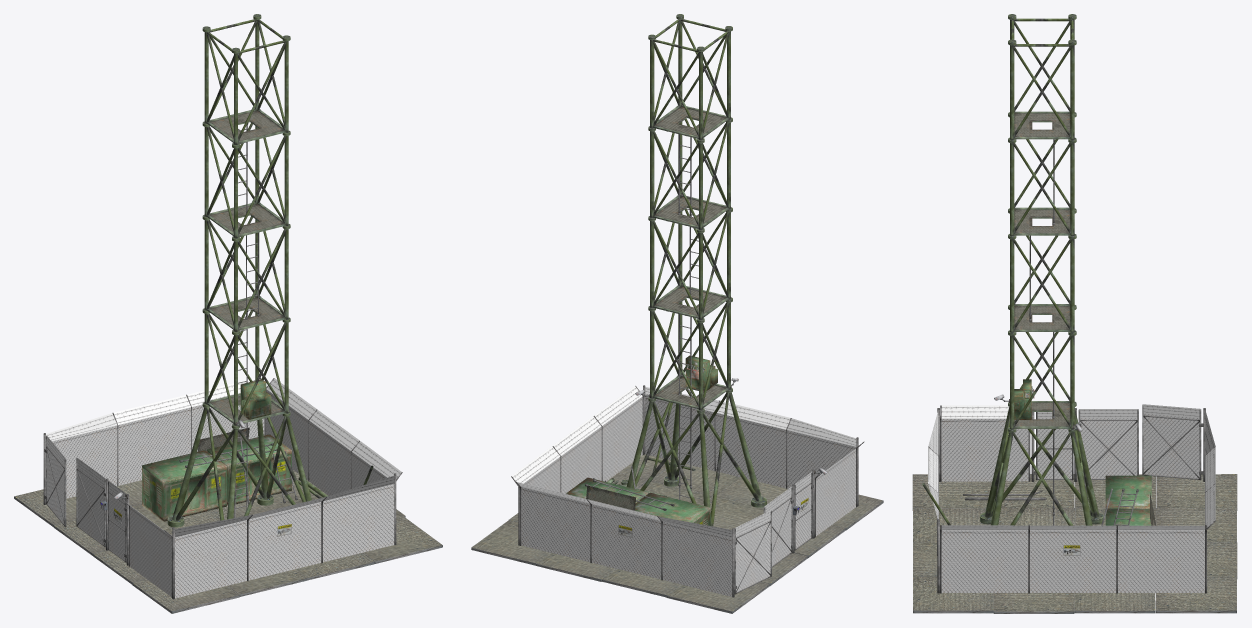
Rendered from radio_communications_tower.glb.
The picture shows the model from 3 angles, left to right: view 1: azimuth 30°, elevation 25°; view 2: azimuth 150°, elevation 25°; view 3: azimuth 270°, elevation 25°; orthographic projection. The views are drawn at different scales.
Parts seen in each view (by area): view 1: Tower1_Top, Wire_Fence, Wire_Fence4, Wire_Fence16, Wire_Fence3, Tower1_Base, Tower1_SectionA3, Tower1_SectionA2, Tower1_SectionA1, Electic_Box1, Wire_Fence18, Wire_Fence14 (+18 smaller); view 2: Tower1_Top, Tower1_Base, Wire_Fence18, Wire_Fence15, Wire_Fence3, Tower1_SectionA2, Wire_Fence16, Tower1_SectionA3, Tower1_SectionA1, Wire_Fence13, Wire_Fence, Wire_Fence4 (+21 smaller); view 3: Wire_Fence13, Wire_Fence17, Wire_Fence14, Wire_Fence12, Tower1_Top, polySurface713, Tower1_Base, polySurface707, Tower1_SectionA3, Tower1_SectionA2, Tower1_SectionA1, polySurface758 (+16 smaller).
Part boxes in pixels (left/top/right/bottom): Tower1_Top: left=202, top=14, right=290, bottom=148; Wire_Fence: left=175, top=515, right=251, bottom=598; Wire_Fence4: left=323, top=475, right=394, bottom=562; Wire_Fence16: left=113, top=395, right=190, bottom=485; Wire_Fence3: left=248, top=497, right=325, bottom=580; Tower1_Base: left=172, top=407, right=311, bottom=520; Tower1_SectionA3: left=202, top=123, right=290, bottom=241; Tower1_SectionA2: left=202, top=216, right=290, bottom=335; Tower1_SectionA1: left=202, top=310, right=290, bottom=428; Electic_Box1: left=142, top=450, right=226, bottom=521; Wire_Fence18: left=46, top=413, right=117, bottom=498; Wire_Fence14: left=309, top=409, right=359, bottom=495; Tower1_Top: left=648, top=14, right=732, bottom=143; Tower1_Base: left=626, top=388, right=762, bottom=526; Wire_Fence18: left=658, top=516, right=732, bottom=596; Wire_Fence15: left=517, top=482, right=590, bottom=562; Wire_Fence3: left=716, top=401, right=790, bottom=488; Tower1_SectionA2: left=648, top=209, right=732, bottom=323; Wire_Fence16: left=587, top=499, right=661, bottom=579; Tower1_SectionA3: left=648, top=118, right=732, bottom=232; Tower1_SectionA1: left=648, top=298, right=732, bottom=413; Wire_Fence13: left=594, top=386, right=642, bottom=481; Wire_Fence: left=787, top=418, right=856, bottom=488; Wire_Fence4: left=645, top=387, right=718, bottom=470; Wire_Fence13: left=941, top=525, right=1028, bottom=592; Wire_Fence17: left=1118, top=525, right=1205, bottom=593; Wire_Fence14: left=1029, top=525, right=1116, bottom=592; Wire_Fence12: left=941, top=405, right=1028, bottom=481; Tower1_Top: left=1008, top=14, right=1076, bottom=143; polySurface713: left=1142, top=404, right=1201, bottom=480; Tower1_Base: left=984, top=407, right=1099, bottom=525; polySurface707: left=1078, top=409, right=1138, bottom=479; Tower1_SectionA3: left=1008, top=139, right=1076, bottom=239; Tower1_SectionA2: left=1008, top=235, right=1076, bottom=335; Tower1_SectionA1: left=1008, top=332, right=1076, bottom=432; polySurface758: left=1156, top=474, right=1237, bottom=510.
Size of the model in its own units: 9.26 by 16.24 by 9.24.
10 materials, 10 textured.
